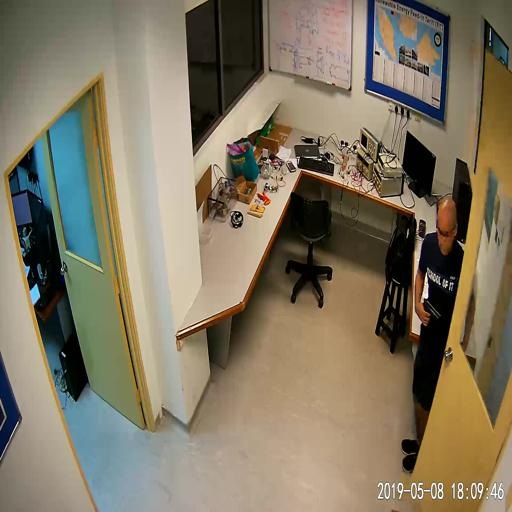pistol: (420, 294, 442, 328)
